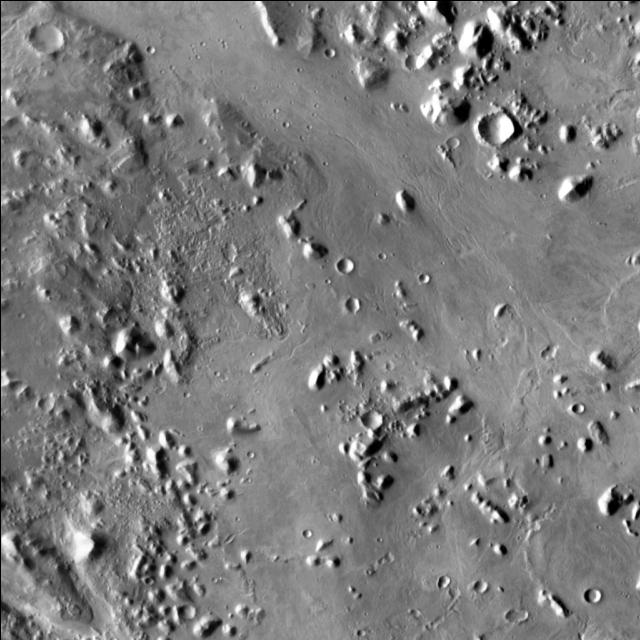crater: (482, 110, 520, 142), (34, 22, 70, 52), (368, 412, 389, 431), (344, 258, 362, 274), (411, 54, 428, 70), (592, 587, 608, 602), (479, 581, 495, 595), (186, 606, 201, 619), (44, 399, 59, 412), (353, 298, 367, 310), (515, 610, 529, 622), (452, 137, 464, 148), (578, 402, 590, 412), (445, 579, 456, 589), (330, 48, 340, 57), (426, 274, 436, 282), (344, 404, 354, 412), (390, 362, 400, 370), (150, 579, 158, 587), (384, 253, 392, 261), (247, 140, 255, 148), (362, 631, 370, 638), (252, 452, 259, 460), (310, 530, 318, 536), (144, 56, 152, 62), (204, 140, 212, 146)
